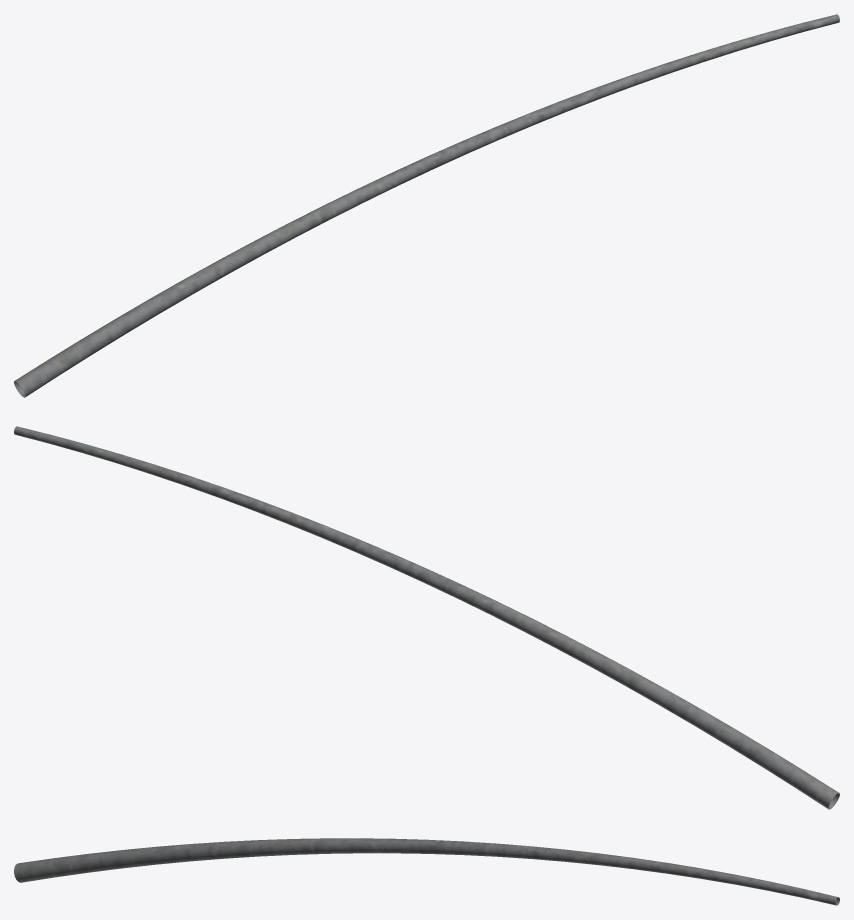
File: armRise4-v1-galvanised.glb
3 renders of one model, top to bottom at view 1: azimuth 30°, elevation 25°; view 2: azimuth 150°, elevation 25°; view 3: azimuth 330°, elevation 25°, orthographic.
Parts seen in each view (by area): view 1: armRise4-v1-galvanised; view 2: armRise4-v1-galvanised; view 3: armRise4-v1-galvanised.
Boxes of the visible parts, box(x1,y1,x2,y2) form: armRise4-v1-galvanised: box(14, 14, 839, 397); armRise4-v1-galvanised: box(14, 426, 839, 809); armRise4-v1-galvanised: box(14, 838, 839, 905).
Bounding box in the file's own units: 10.71 × 2.29 × 0.2223.
Materials: 1 (1 with a texture image).
